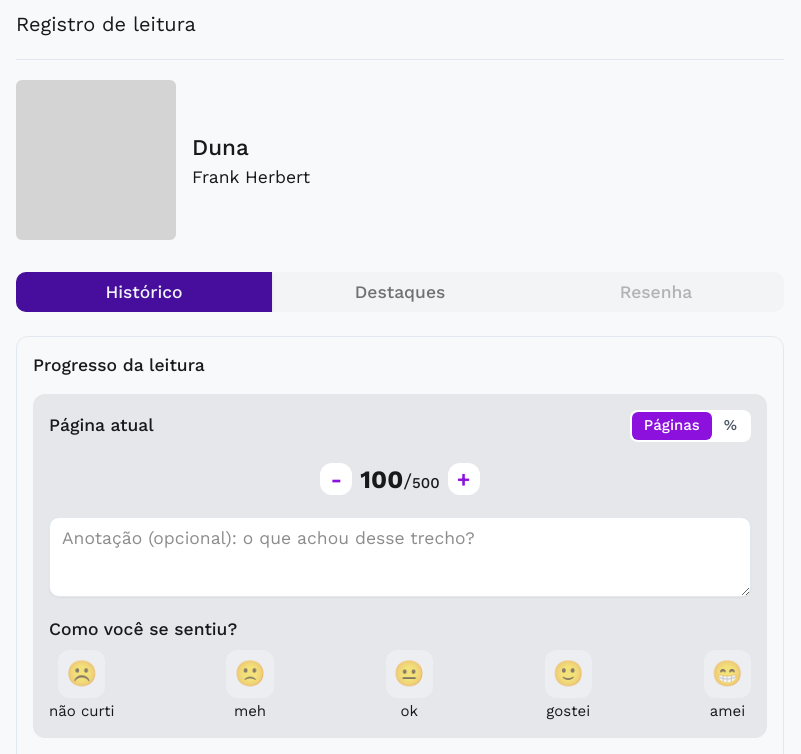
Scenario: RegisterRead › navega para a aba de destaques ao clicar
Click the tab "Destaques": (400, 292) [272,272,528,312]
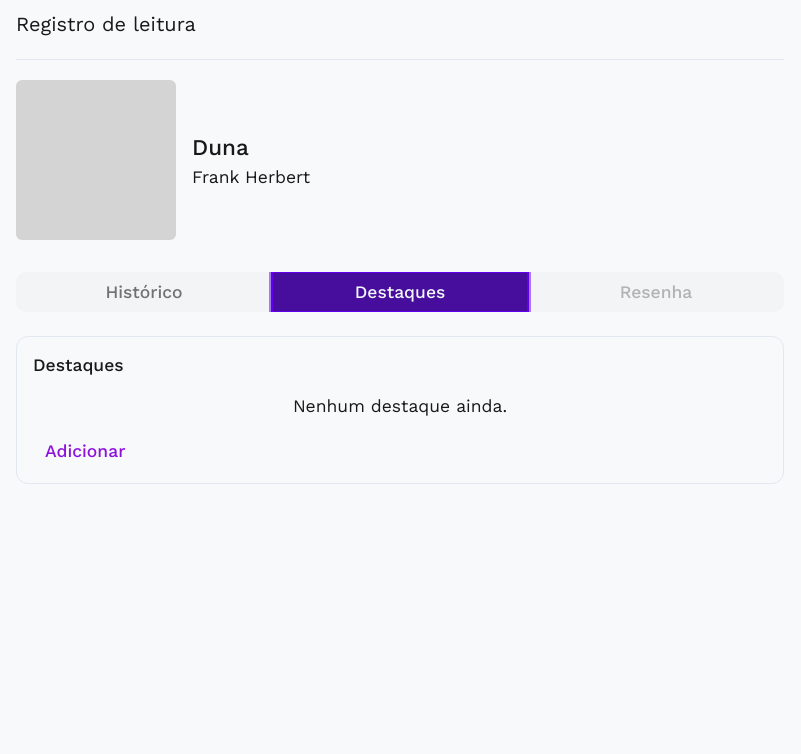
Expected: the text "Nenhum destaque ainda." is shown, [293,396,507,416]
